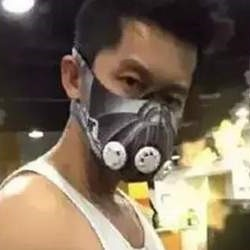mask: (82, 78, 186, 187)
